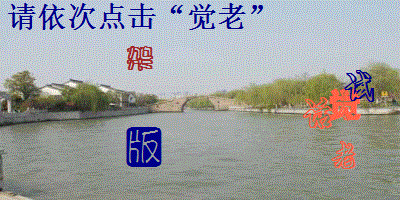text: (124, 126, 163, 168), (328, 87, 363, 122), (302, 96, 334, 131), (344, 69, 376, 103), (124, 45, 155, 73), (331, 141, 358, 170)
